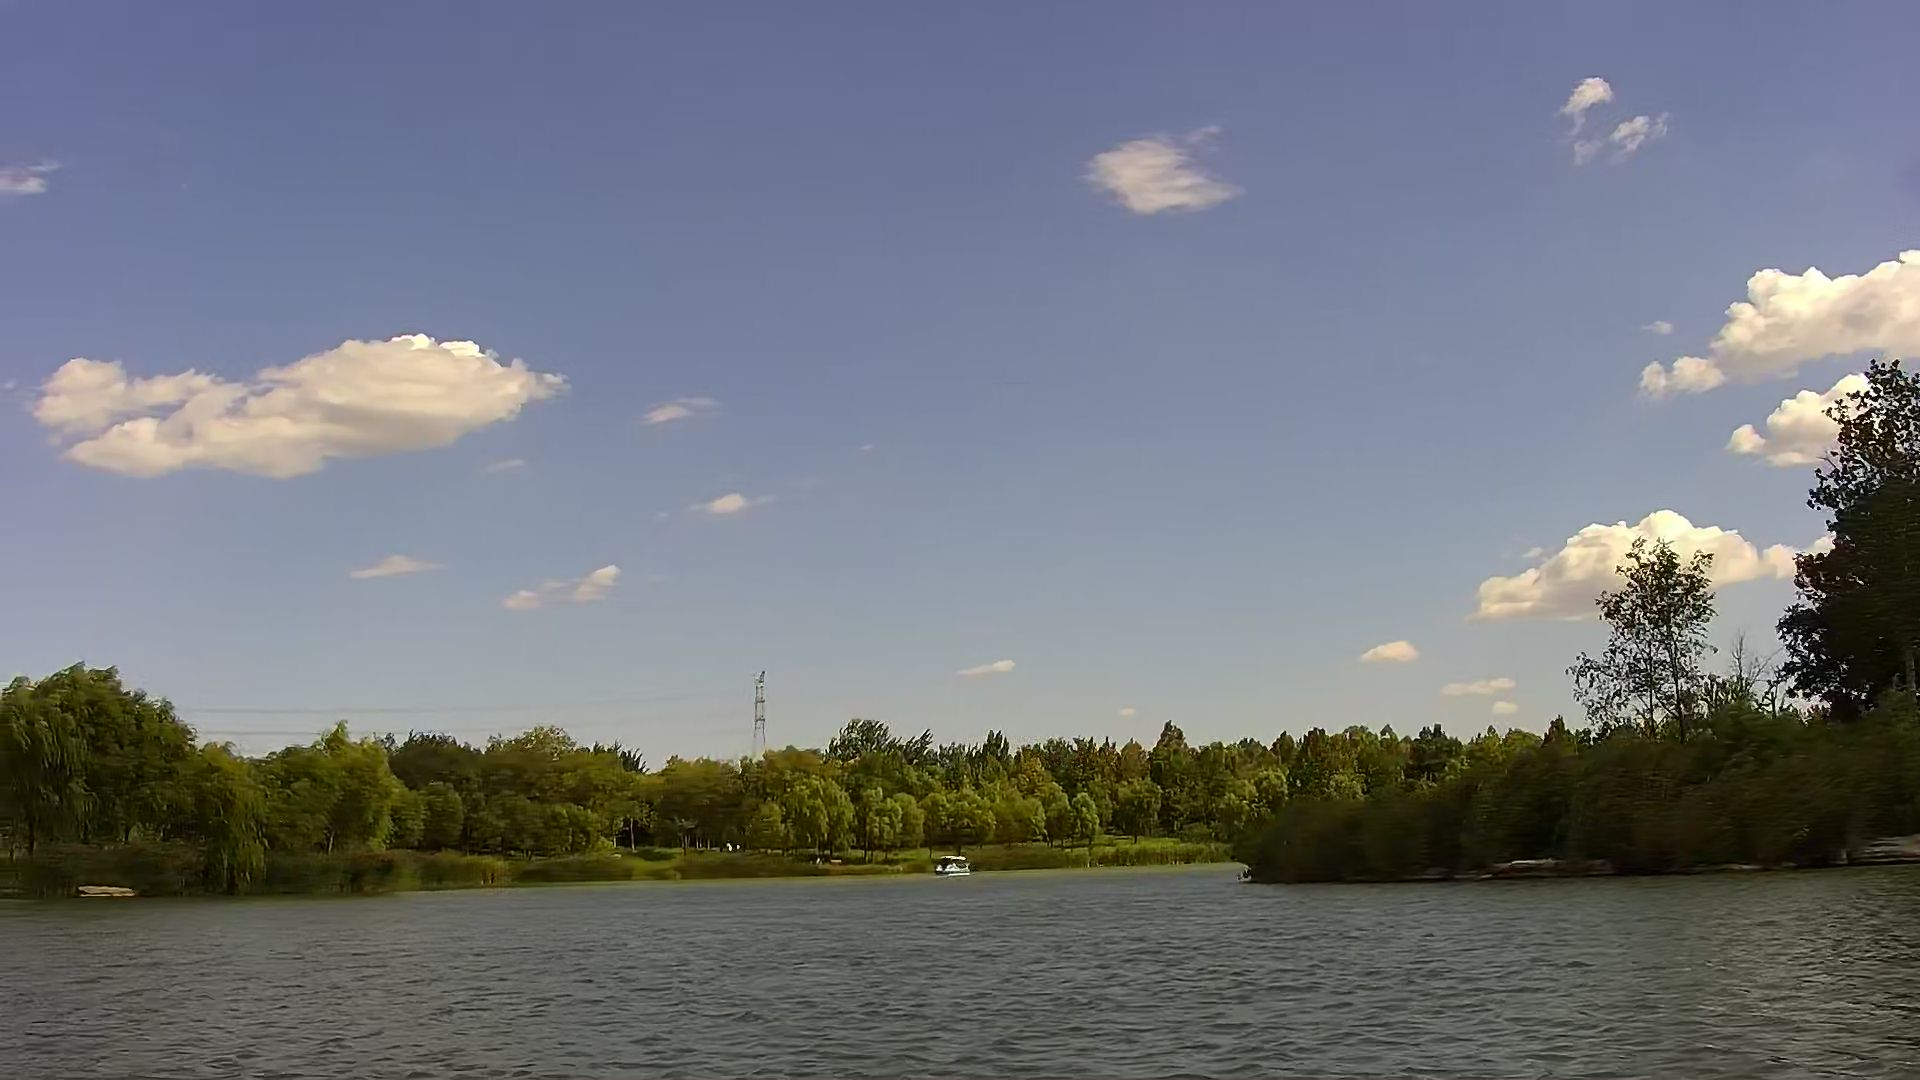boat: (931, 855, 971, 876)
rock: (1501, 857, 1594, 876), (1850, 839, 1915, 862), (74, 884, 128, 899), (1721, 857, 1774, 870)
